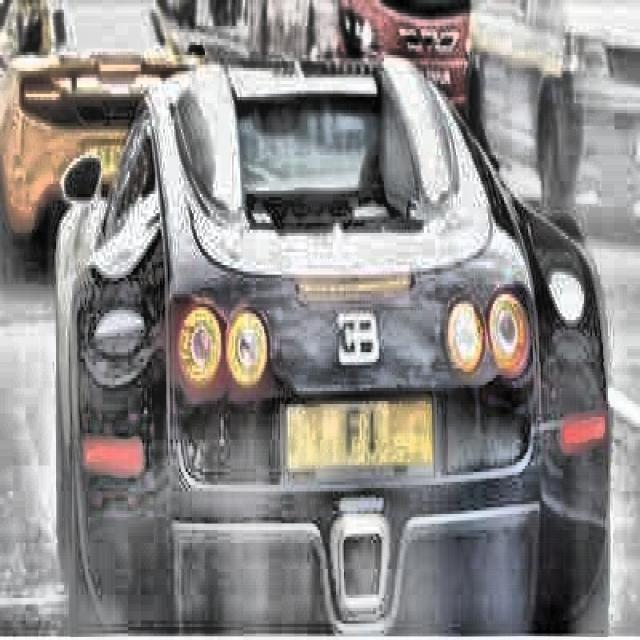license_plate: (287, 405, 434, 477)
